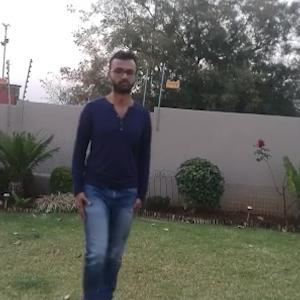follow: (74, 52, 156, 299)
